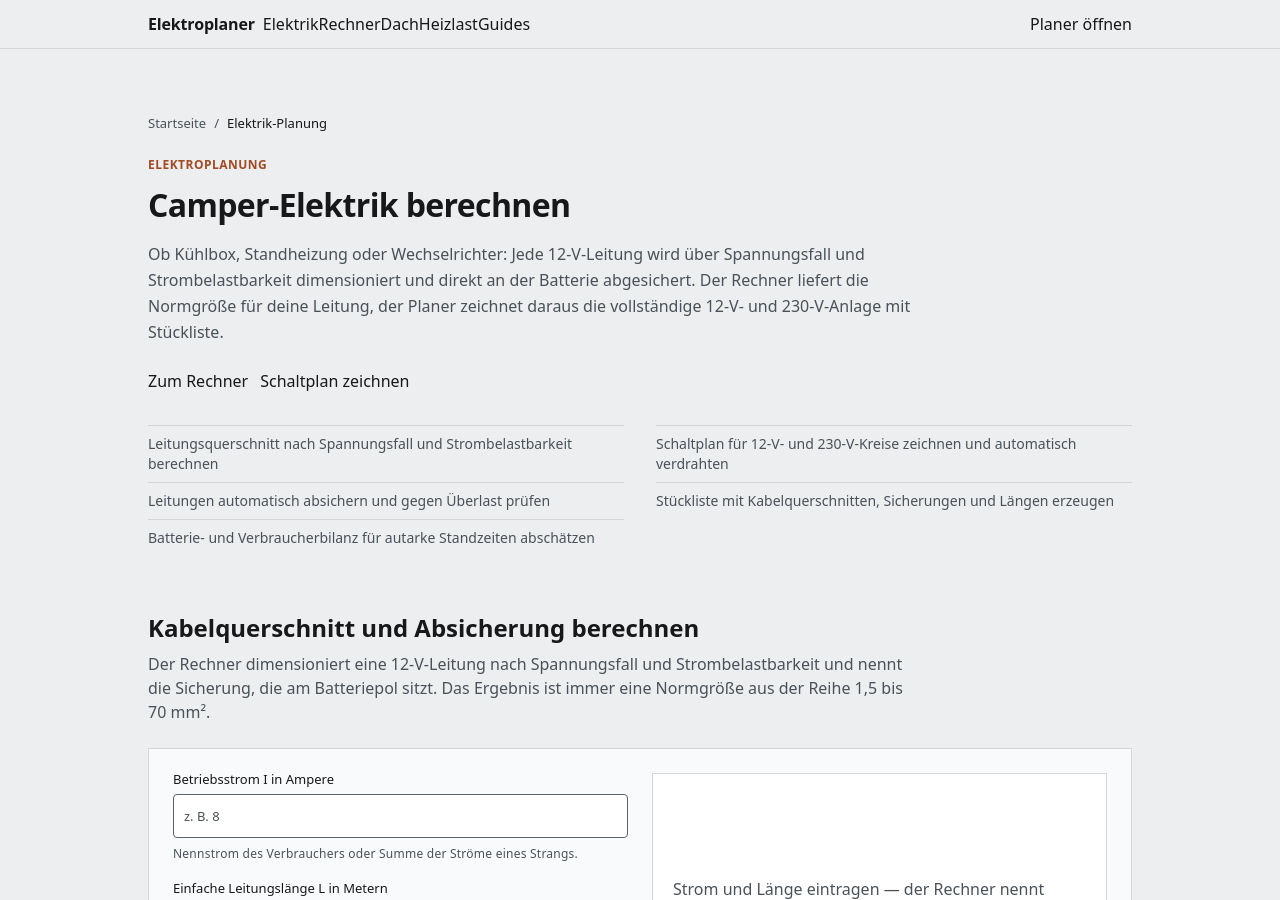
Test: ElektrikPlanung › nennt nach der Eingabe Querschnitt, Spannungsfall und Sicherung
This screenshot has width=1280, height=900.
Type "10" into the field labelled "Betriebsstrom I in Ampere" at [400, 816], box x1=173 y1=794 x2=628 y2=838
(page scrolled)
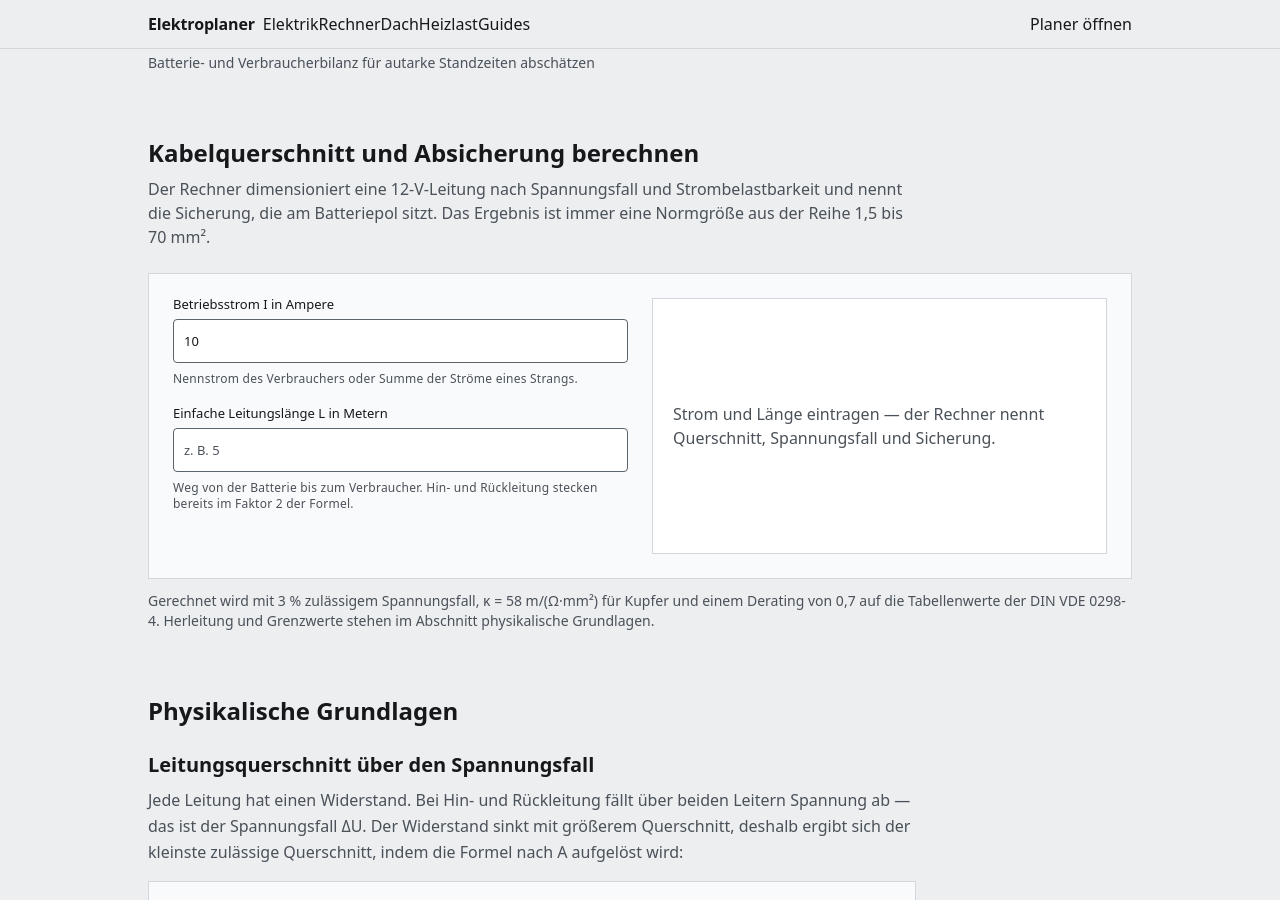
Type "5" into the field labelled "Einfache Leitungslänge L in Metern" at [400, 450], box x1=173 y1=428 x2=628 y2=472
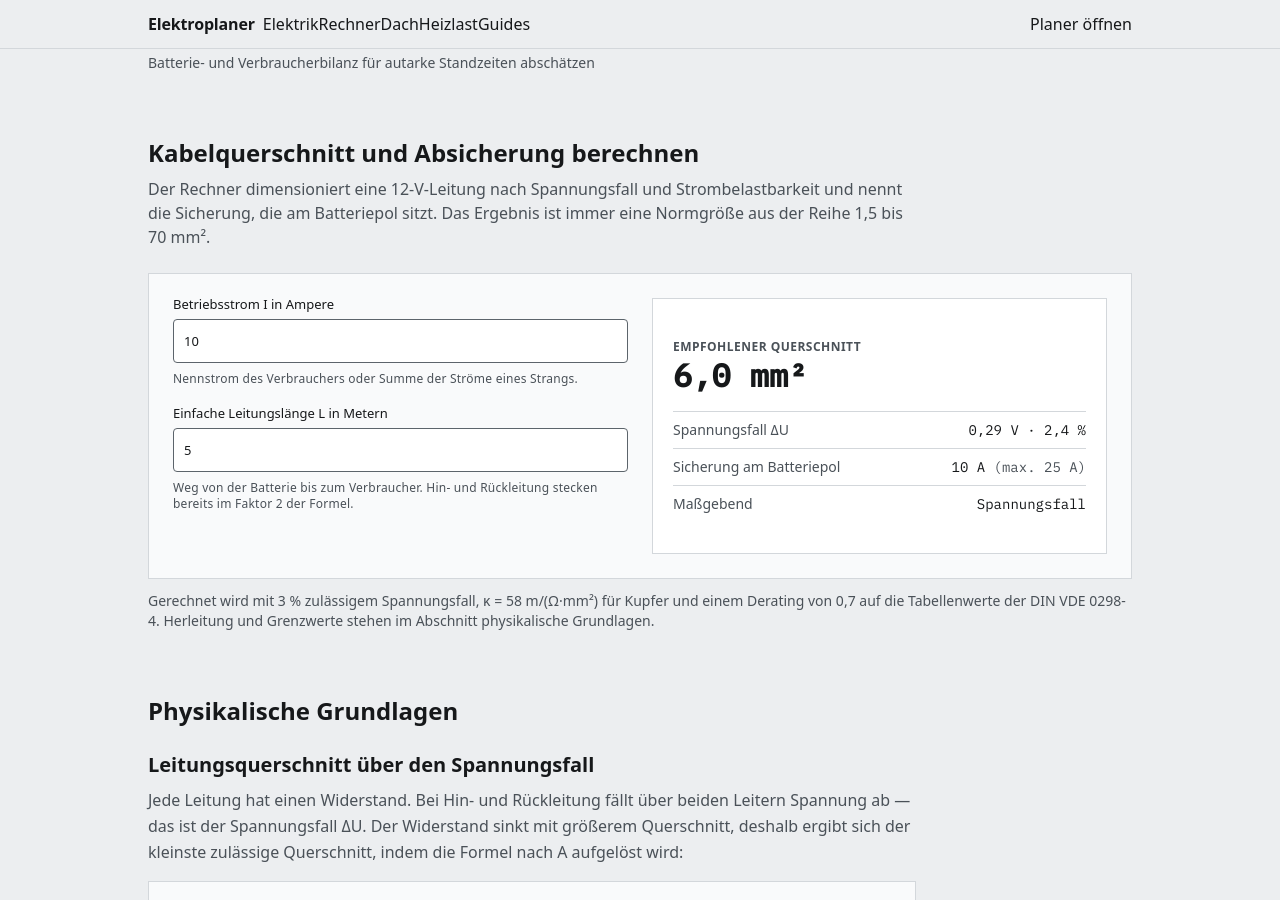
Expected: the message shows "6,0 mm²", x1=652 y1=298 x2=1107 y2=554
Expected: the message shows "0,29 V", x1=652 y1=298 x2=1107 y2=554
Expected: the message shows "10 A", x1=952 y1=458 x2=985 y2=476
